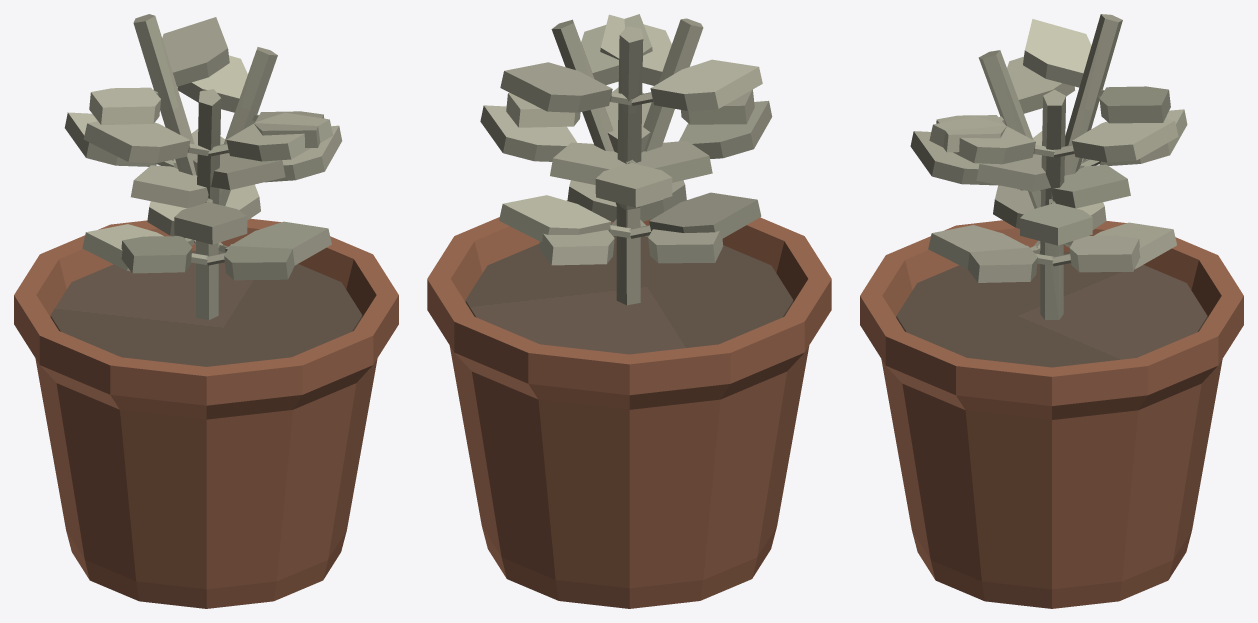
File: new-tomentosa-kal.glb
3 renders of one model, left to right at view 1: azimuth 30°, elevation 25°; view 2: azimuth 150°, elevation 25°; view 3: azimuth 270°, elevation 25°, orthographic. The views are drawn at different scales.
Parts seen in each view (by area): view 1: new-tomentosa-kal/review-terra-vessel, new-tomentosa-kal/review-rooted-soil, new-tomentosa-kal/stem-014, new-tomentosa-kal/leaf-037, new-tomentosa-kal/leaf-024, new-tomentosa-kal/leaf-039, new-tomentosa-kal/stem-001, new-tomentosa-kal/leaf-026, new-tomentosa-kal/leaf-018, new-tomentosa-kal/leaf-033, new-tomentosa-kal/leaf-009, new-tomentosa-kal/leaf-031 (+10 smaller); view 2: new-tomentosa-kal/review-terra-vessel, new-tomentosa-kal/review-rooted-soil, new-tomentosa-kal/leaf-026, new-tomentosa-kal/leaf-024, new-tomentosa-kal/stem-027, new-tomentosa-kal/stem-014, new-tomentosa-kal/leaf-018, new-tomentosa-kal/leaf-016, new-tomentosa-kal/leaf-007, new-tomentosa-kal/stem-001, new-tomentosa-kal/leaf-033, new-tomentosa-kal/leaf-020 (+11 smaller); view 3: new-tomentosa-kal/review-terra-vessel, new-tomentosa-kal/review-rooted-soil, new-tomentosa-kal/stem-014, new-tomentosa-kal/leaf-026, new-tomentosa-kal/leaf-013, new-tomentosa-kal/stem-027, new-tomentosa-kal/leaf-011, new-tomentosa-kal/stem-001, new-tomentosa-kal/leaf-024, new-tomentosa-kal/leaf-035, new-tomentosa-kal/leaf-016, new-tomentosa-kal/leaf-007 (+9 smaller).
Boxes of the visible parts, left/top/right/bottom form: new-tomentosa-kal/review-terra-vessel: left=14, top=218, right=398, bottom=608; new-tomentosa-kal/review-rooted-soil: left=50, top=250, right=362, bottom=366; new-tomentosa-kal/stem-014: left=133, top=14, right=208, bottom=319; new-tomentosa-kal/leaf-037: left=83, top=121, right=190, bottom=163; new-tomentosa-kal/leaf-024: left=162, top=17, right=229, bottom=86; new-tomentosa-kal/leaf-039: left=226, top=112, right=333, bottom=161; new-tomentosa-kal/stem-001: left=209, top=47, right=277, bottom=319; new-tomentosa-kal/leaf-026: left=89, top=87, right=160, bottom=124; new-tomentosa-kal/leaf-018: left=121, top=236, right=192, bottom=273; new-tomentosa-kal/leaf-033: left=174, top=202, right=247, bottom=244; new-tomentosa-kal/leaf-009: left=131, top=165, right=208, bottom=208; new-tomentosa-kal/leaf-031: left=225, top=221, right=331, bottom=265; new-tomentosa-kal/review-terra-vessel: left=427, top=200, right=831, bottom=608; new-tomentosa-kal/review-rooted-soil: left=465, top=236, right=793, bottom=354; new-tomentosa-kal/leaf-026: left=650, top=59, right=762, bottom=110; new-tomentosa-kal/leaf-024: left=500, top=62, right=612, bottom=112; new-tomentosa-kal/stem-027: left=627, top=18, right=703, bottom=305; new-tomentosa-kal/stem-014: left=616, top=26, right=643, bottom=299; new-tomentosa-kal/leaf-018: left=649, top=192, right=761, bottom=239; new-tomentosa-kal/leaf-016: left=499, top=195, right=611, bottom=242; new-tomentosa-kal/leaf-007: left=480, top=105, right=577, bottom=161; new-tomentosa-kal/stem-001: left=551, top=19, right=626, bottom=305; new-tomentosa-kal/leaf-033: left=679, top=100, right=772, bottom=158; new-tomentosa-kal/leaf-020: left=595, top=163, right=672, bottom=207; new-tomentosa-kal/review-terra-vessel: left=860, top=220, right=1243, bottom=608; new-tomentosa-kal/review-rooted-soil: left=896, top=251, right=1207, bottom=367; new-tomentosa-kal/stem-014: left=1052, top=14, right=1122, bottom=318; new-tomentosa-kal/leaf-026: left=1023, top=19, right=1091, bottom=87; new-tomentosa-kal/leaf-013: left=1072, top=119, right=1178, bottom=162; new-tomentosa-kal/stem-027: left=978, top=50, right=1058, bottom=319; new-tomentosa-kal/leaf-011: left=929, top=116, right=1035, bottom=164; new-tomentosa-kal/stem-001: left=1040, top=89, right=1066, bottom=319; new-tomentosa-kal/leaf-024: left=1099, top=86, right=1170, bottom=123; new-tomentosa-kal/leaf-035: left=1051, top=164, right=1130, bottom=208; new-tomentosa-kal/leaf-016: left=1069, top=235, right=1140, bottom=272; new-tomentosa-kal/leaf-007: left=1020, top=203, right=1092, bottom=245.
Bounding box in the file's own units: 0.19 × 0.2848 × 0.19.
3 materials, 3 textured.
